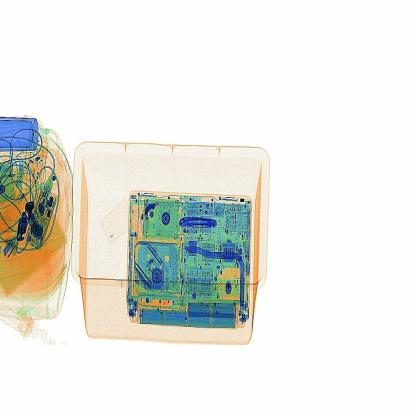knife: (176, 210, 225, 244)
